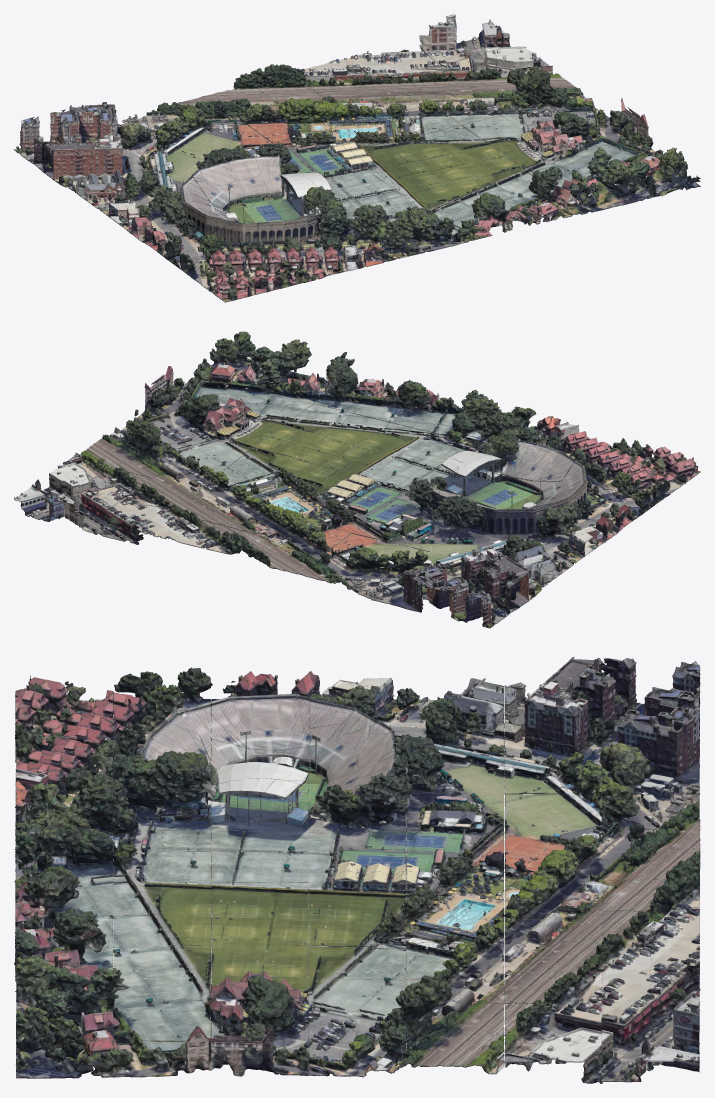
Rendered from tennis.glb.
3 renders of one model, top to bottom at view 1: azimuth 30°, elevation 25°; view 2: azimuth 150°, elevation 25°; view 3: azimuth 270°, elevation 25°, orthographic. The views are drawn at different scales.
Parts seen in each view (by area): view 1: Object_4; view 2: Object_4; view 3: Object_4.
Part boxes in pixels (bbox=[...]): Object_4: bbox=[14, 14, 700, 302]; Object_4: bbox=[14, 331, 700, 628]; Object_4: bbox=[14, 657, 700, 1083].
Size of the model in its own units: 349 by 37.3 by 268.
Materials: 1 (1 with a texture image).
